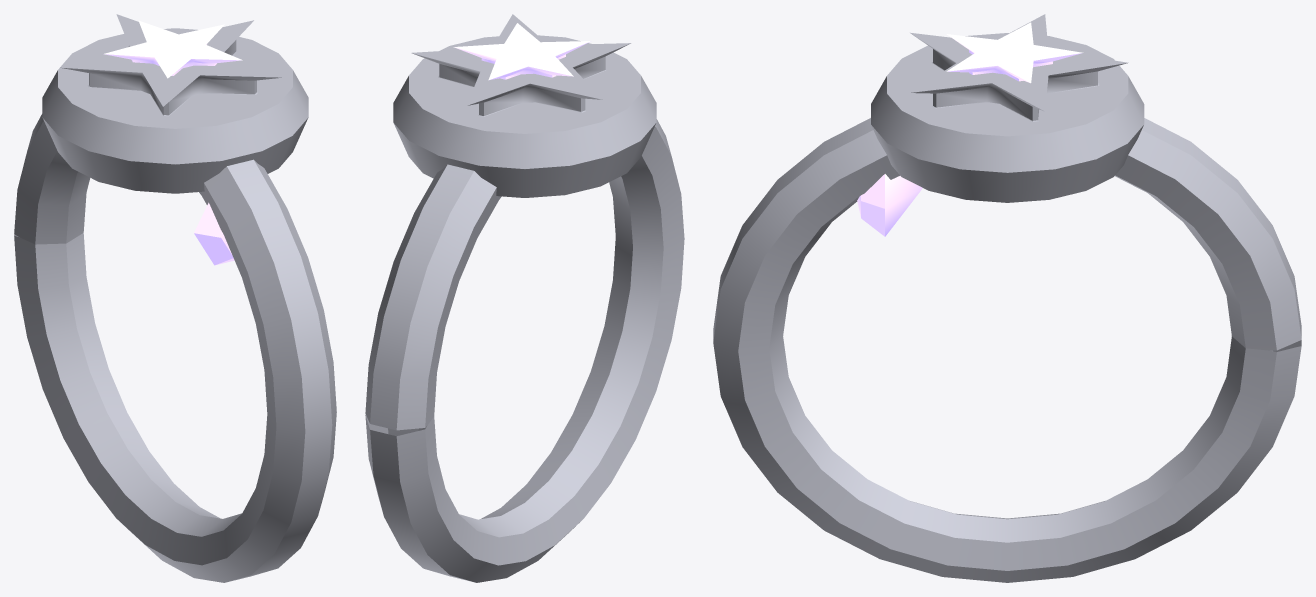
Rendered from asc_astral_magister_accessory.glb.
3 renders of one model, left to right at view 1: azimuth 30°, elevation 25°; view 2: azimuth 150°, elevation 25°; view 3: azimuth 270°, elevation 25°, orthographic. The views are drawn at different scales.
Parts seen in each view (by area): view 1: asc_astral_magister_accessory; view 2: asc_astral_magister_accessory; view 3: asc_astral_magister_accessory.
Boxes of the visible parts, x1,y1,x2,y2 form: asc_astral_magister_accessory: [14, 14, 336, 582]; asc_astral_magister_accessory: [365, 14, 684, 582]; asc_astral_magister_accessory: [713, 14, 1301, 582].
Size of the model in its own units: 0.068 by 0.1415 by 0.1442.
